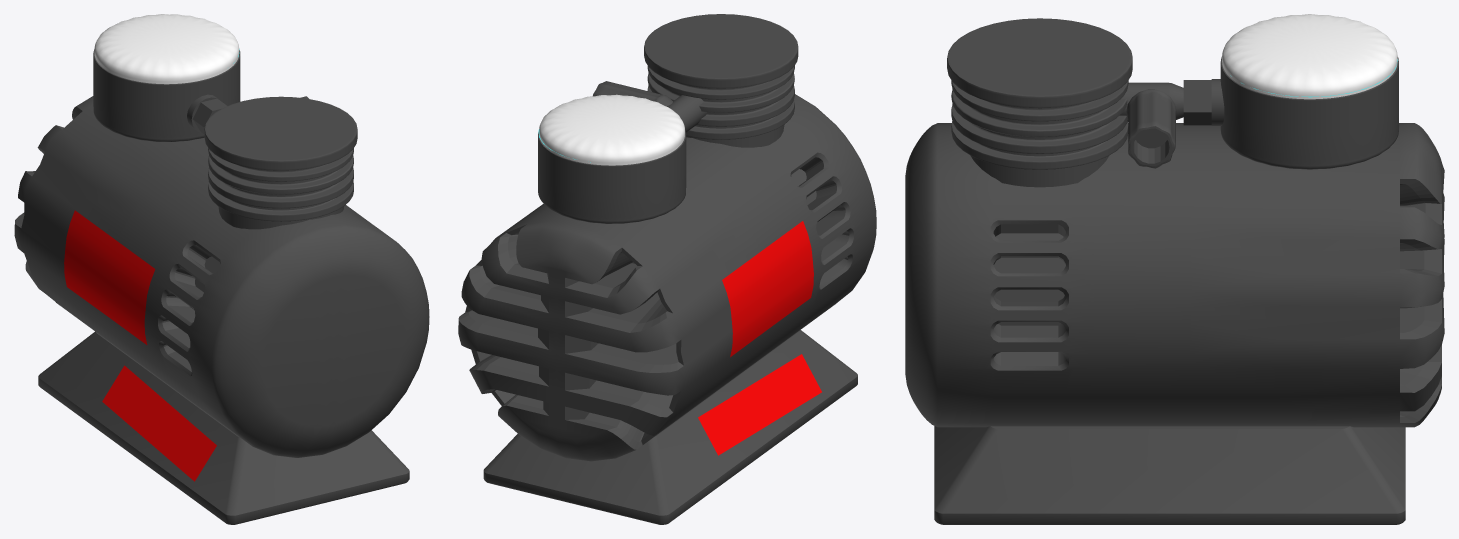
File: compressor.fbx
3 renders of one model, left to right at view 1: azimuth 30°, elevation 25°; view 2: azimuth 150°, elevation 25°; view 3: azimuth 270°, elevation 25°, orthographic. The views are drawn at different scales.
Parts seen in each view (by area): view 1: base, glass, label 2, Plane001; view 2: base, glass, label 2, Plane001; view 3: base, glass.
Part boxes in pixels (x1,y1,x2,y2): base: (14,49,429,524); glass: (94,14,239,84); label 2: (64,210,155,344); Plane001: (102,365,216,481); base: (458,14,876,524); glass: (539,94,684,165); label 2: (722,221,813,357); Plane001: (698,354,821,455); base: (905,18,1444,524); glass: (1222,14,1397,99).
Bounding box in the file's own units: 43.43 × 66.91 × 75.72.
